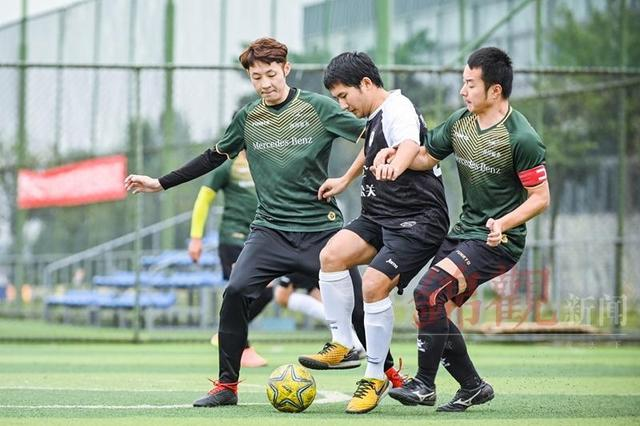football: (267, 362, 316, 412)
